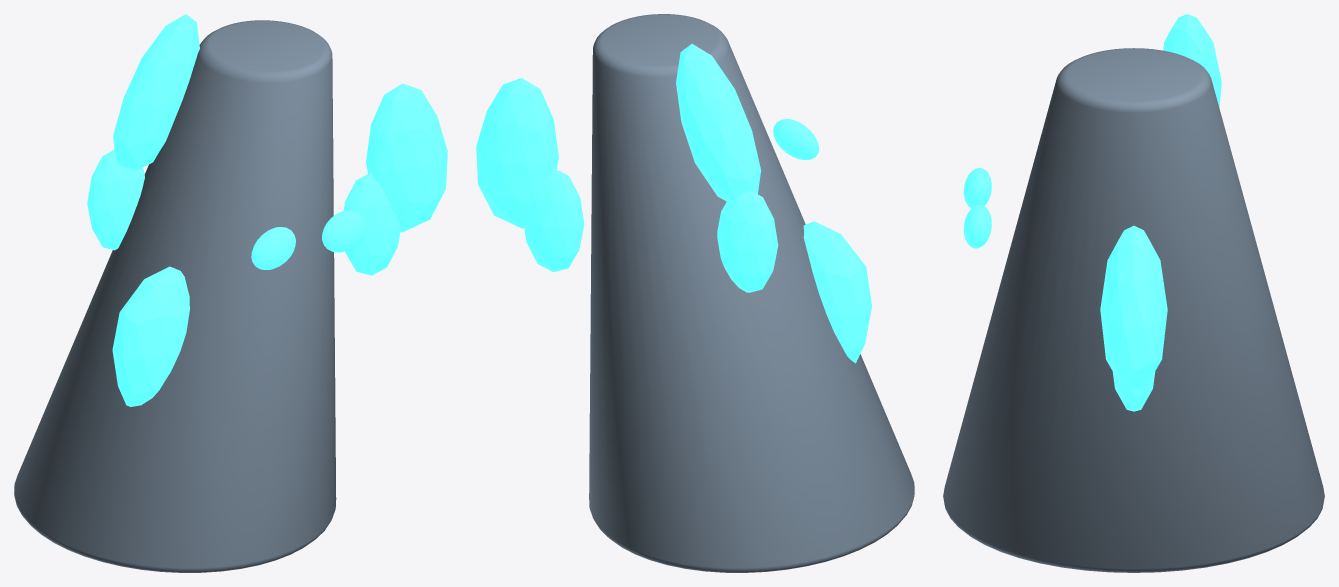
The model's file is wraith_v7.glb.
3 views of the same model, side by side, from view 1: azimuth 30°, elevation 25°; view 2: azimuth 150°, elevation 25°; view 3: azimuth 270°, elevation 25° (orthographic). The views are drawn at different scales.
Visible parts, largest first — view 1: WRAITH_BODY_PRIMARY, ENERGY_SHARD_EMISSIVE, ENERGY_SHARD_EMISSIVE.001, ENERGY_SHARD_EMISSIVE.002, ORBIT_SHARD_EMISSIVE.001, ORBIT_SHARD_EMISSIVE, EYE_EMISSIVE, EYE_EMISSIVE.001; view 2: WRAITH_BODY_PRIMARY, ENERGY_SHARD_EMISSIVE, ENERGY_SHARD_EMISSIVE.001, ENERGY_SHARD_EMISSIVE.002, ORBIT_SHARD_EMISSIVE.001, ORBIT_SHARD_EMISSIVE, EYE_EMISSIVE; view 3: WRAITH_BODY_PRIMARY, ENERGY_SHARD_EMISSIVE, ENERGY_SHARD_EMISSIVE.001, EYE_EMISSIVE.001, EYE_EMISSIVE, ORBIT_SHARD_EMISSIVE.
Part boxes in pixels (<box>): WRAITH_BODY_PRIMARY: <box>14,20,336,572</box>; ENERGY_SHARD_EMISSIVE: <box>366,83,447,232</box>; ENERGY_SHARD_EMISSIVE.001: <box>113,14,199,171</box>; ENERGY_SHARD_EMISSIVE.002: <box>112,266,189,406</box>; ORBIT_SHARD_EMISSIVE.001: <box>87,150,144,250</box>; ORBIT_SHARD_EMISSIVE: <box>343,172,400,275</box>; EYE_EMISSIVE: <box>251,227,295,269</box>; EYE_EMISSIVE.001: <box>322,210,365,252</box>; WRAITH_BODY_PRIMARY: <box>589,14,914,572</box>; ENERGY_SHARD_EMISSIVE: <box>476,78,558,228</box>; ENERGY_SHARD_EMISSIVE.001: <box>676,44,760,201</box>; ENERGY_SHARD_EMISSIVE.002: <box>803,221,871,363</box>; ORBIT_SHARD_EMISSIVE.001: <box>717,191,778,292</box>; ORBIT_SHARD_EMISSIVE: <box>523,168,584,272</box>; EYE_EMISSIVE: <box>773,119,819,159</box>; WRAITH_BODY_PRIMARY: <box>943,48,1324,572</box>; ENERGY_SHARD_EMISSIVE: <box>1100,225,1167,388</box>; ENERGY_SHARD_EMISSIVE.001: <box>1163,14,1221,107</box>; EYE_EMISSIVE.001: <box>963,204,991,248</box>; EYE_EMISSIVE: <box>963,168,991,208</box>; ORBIT_SHARD_EMISSIVE: <box>1112,371,1155,411</box>.
Size of the model in its own units: 1.96 by 2.15 by 1.46.
